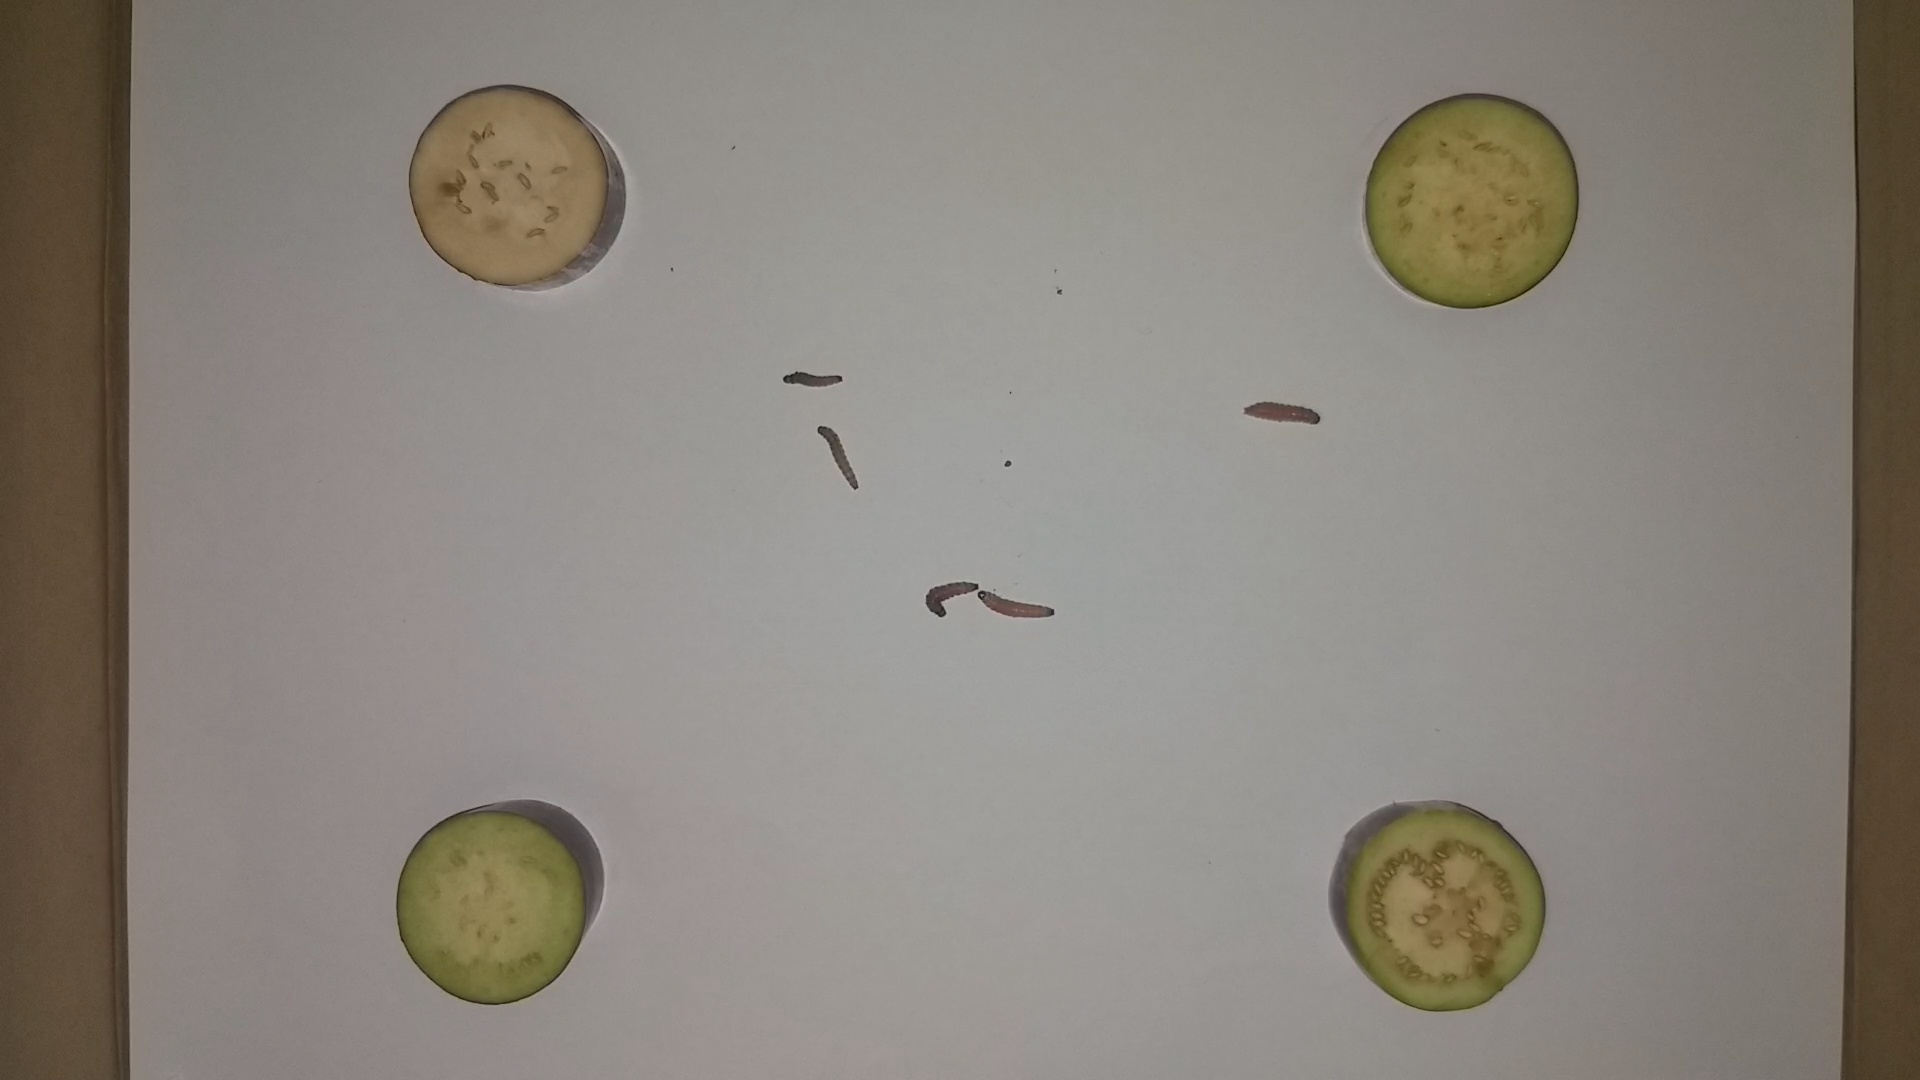efsb: (919, 566, 981, 634), (808, 419, 861, 500), (1234, 396, 1328, 439), (971, 585, 1054, 625), (782, 364, 847, 396)
eggplant: (1328, 781, 1561, 1015), (1353, 84, 1584, 319), (392, 787, 622, 1017), (409, 79, 636, 306)
